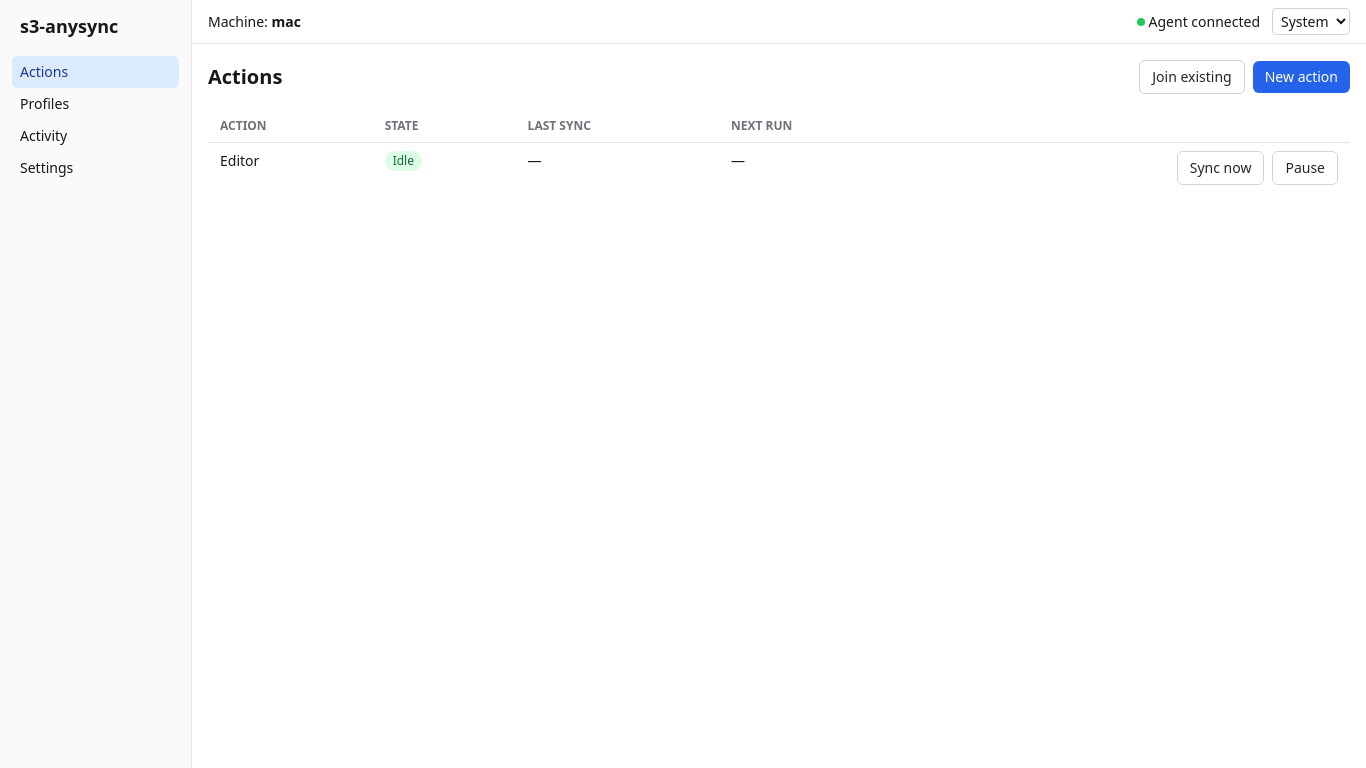
Scenario: a failed sync shows an error toast and re-enables the row
Click the button with aria-label "Sync now Editor" at (1221, 168), box x1=1177 y1=151 x2=1264 y2=185
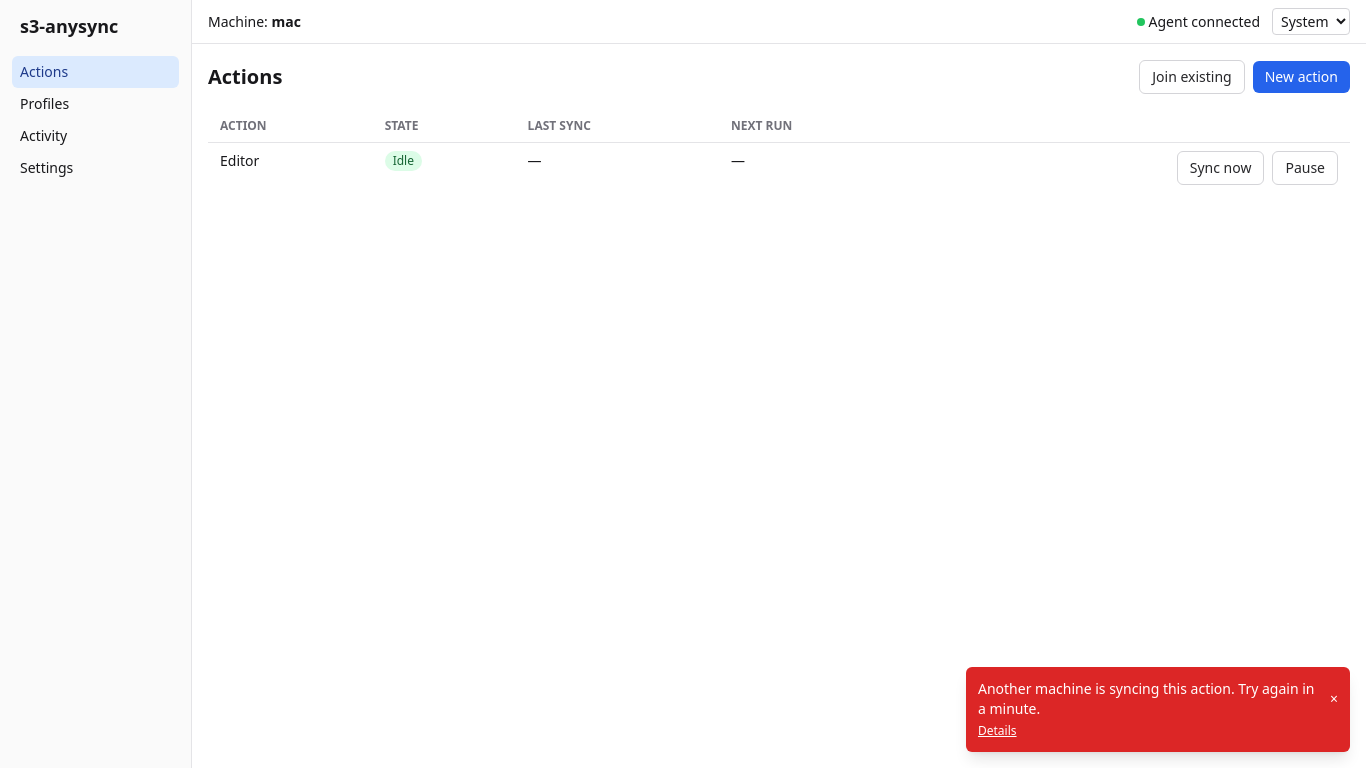
Expected: the text "Another machine is syncing this action" is shown, x1=978 y1=679 x2=1314 y2=718
